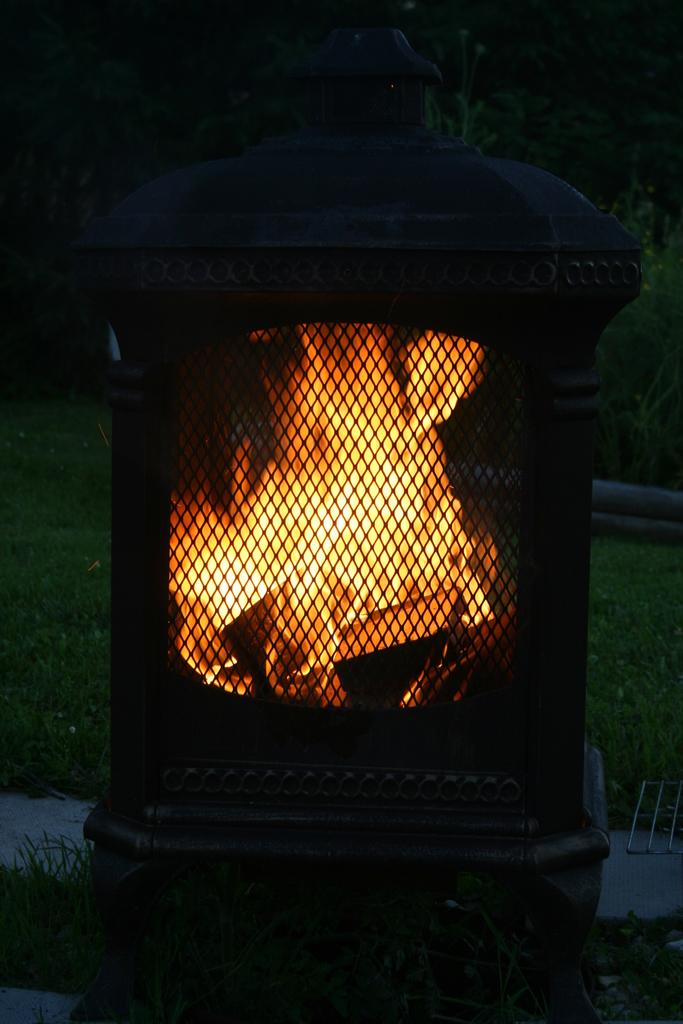Fire: (172, 329, 504, 700)
